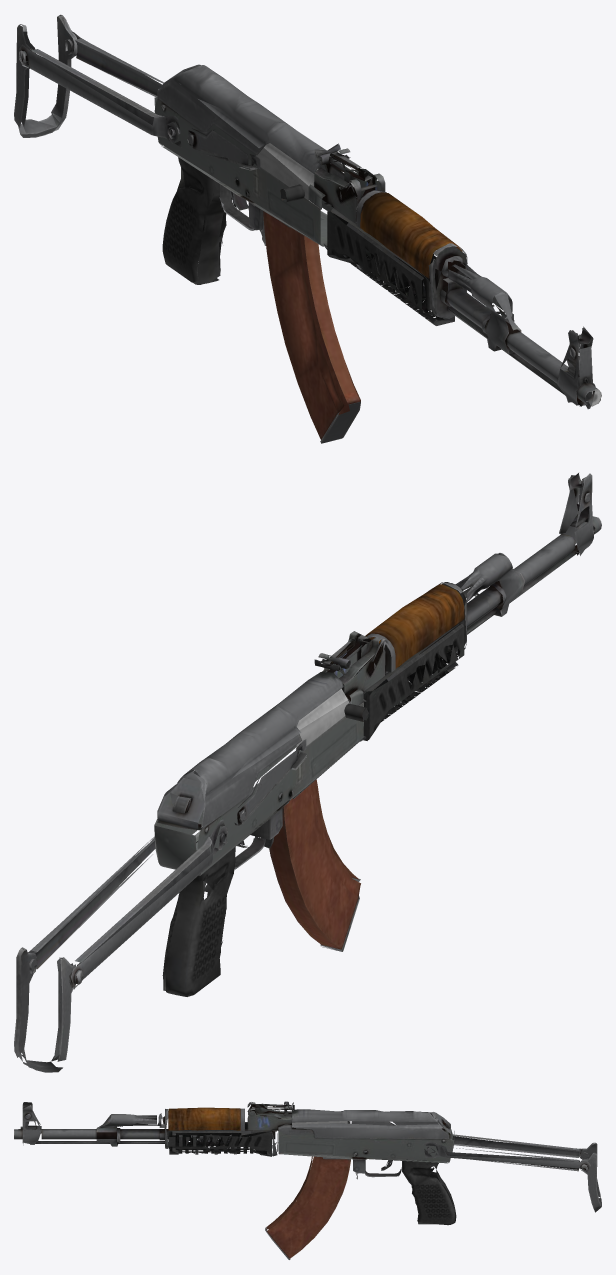
The model's file is ak_tactical_lo.glb.
3 views of the same model, one above another, from view 1: azimuth 30°, elevation 25°; view 2: azimuth 150°, elevation 25°; view 3: azimuth 270°, elevation 25° (orthographic). The views are drawn at different scales.
Visible parts, largest first — view 1: merged; view 2: merged; view 3: merged.
Part boxes in pixels (x1=…): merged: x1=14, y1=14, x2=601, y2=443; merged: x1=14, y1=473, x2=601, y2=1072; merged: x1=14, y1=1101, x2=601, y2=1259.
Size of the model in its own units: 0.1381 by 0.5337 by 1.84.
1 material, 1 textured.
